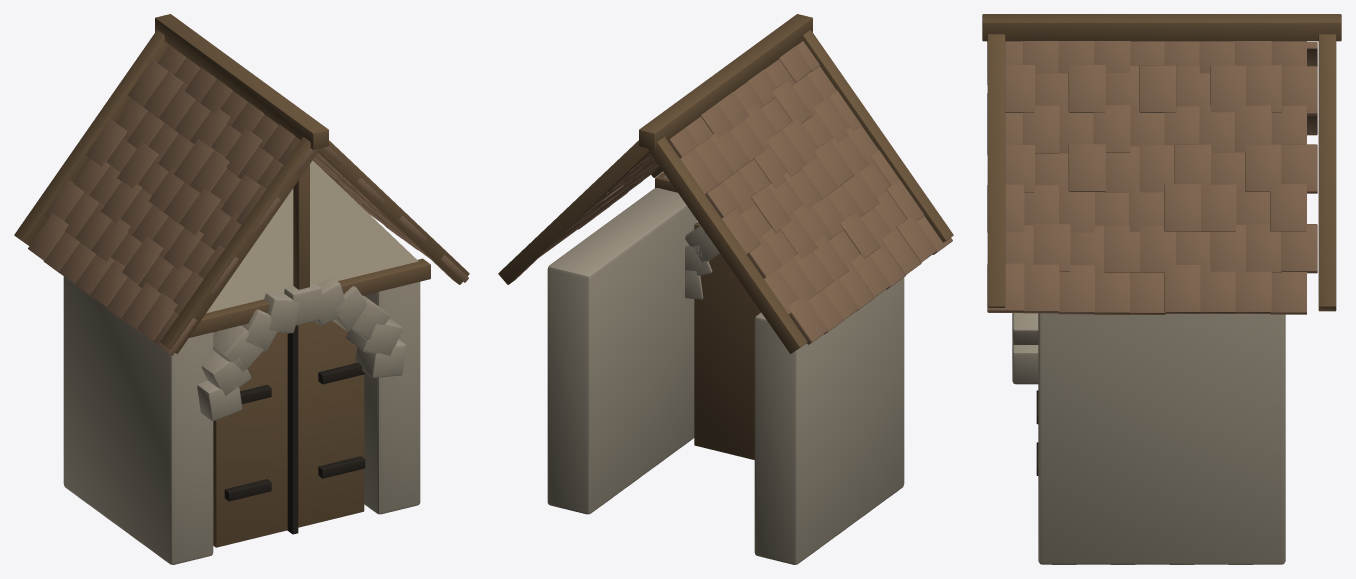
The model's file is painted_gatehouse.glb.
3 views of the same model, side by side, from view 1: azimuth 30°, elevation 25°; view 2: azimuth 150°, elevation 25°; view 3: azimuth 270°, elevation 25° (orthographic). The views are drawn at different scales.
Parts seen in each view (by area): view 1: painted_gatehouse; view 2: painted_gatehouse; view 3: painted_gatehouse.
Boxes of the visible parts, x1,y1,x2,y2 form: painted_gatehouse: (14,14,469,564); painted_gatehouse: (498,14,953,564); painted_gatehouse: (982,14,1341,564).
Size of the model in its own units: 3.36 by 4.49 by 3.05.
